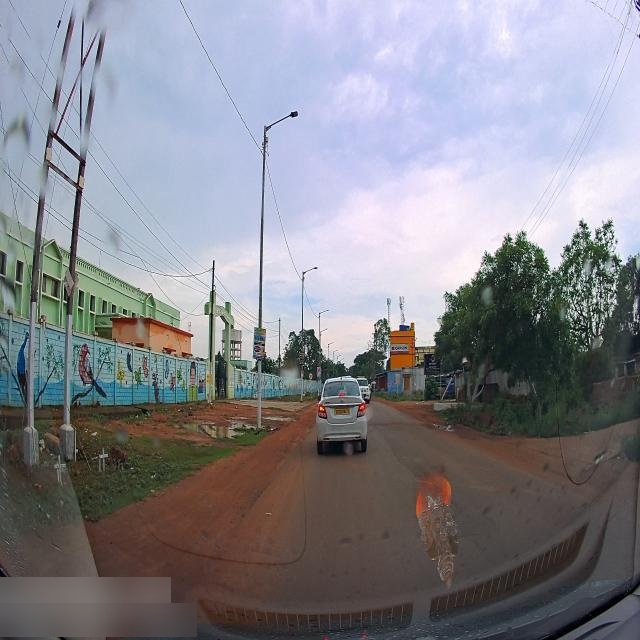pothole: (175, 422, 252, 448)
